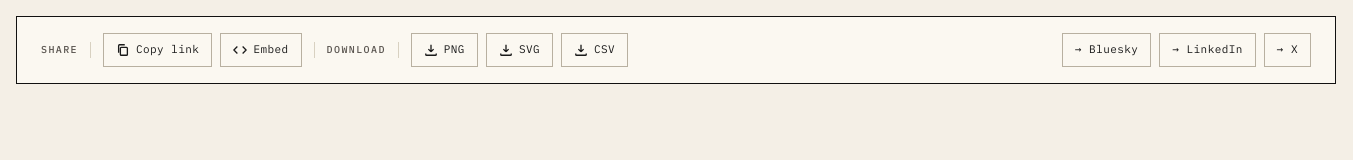
ShareBar (F7 — every control is real) › copies the chart link to the clipboard with feedback
Click the button with aria-label "Copy link to chart": click(158, 50) [103, 33, 212, 67]
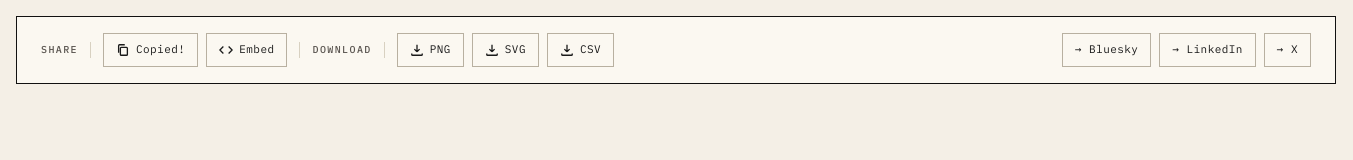
Expected: the text "Copied!" is shown, [103, 33, 198, 67]
